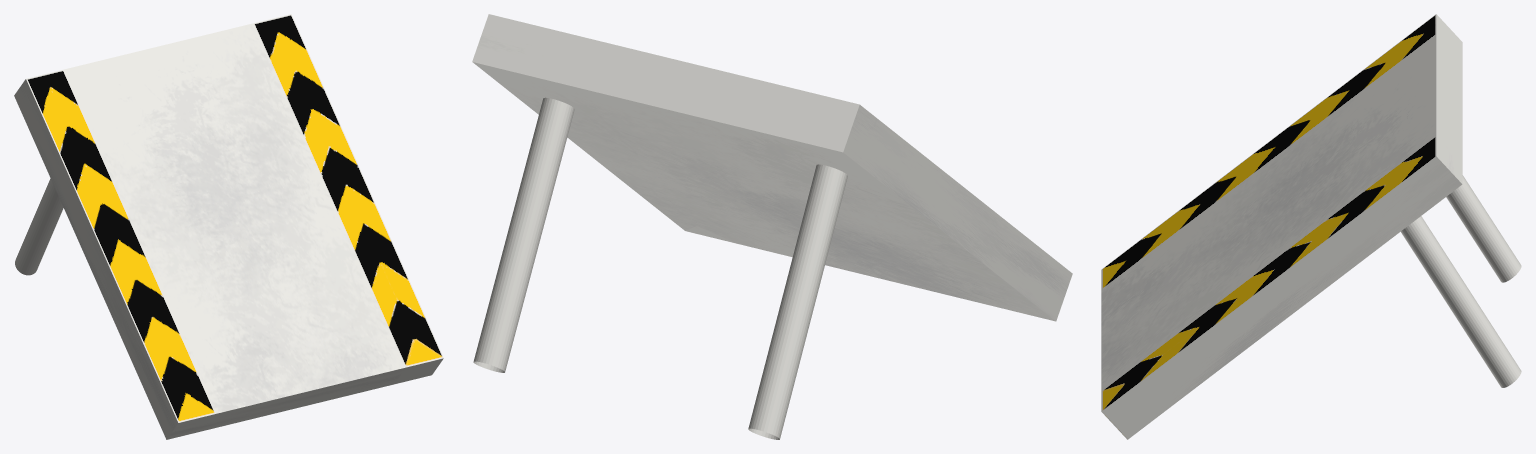
Rendered from JumpDae 1.fbx.
3 views of the same model, side by side, from view 1: azimuth 30°, elevation 25°; view 2: azimuth 150°, elevation 25°; view 3: azimuth 270°, elevation 25° (orthographic). The views are drawn at different scales.
Parts seen in each view (by area): view 1: Circle; view 2: Circle; view 3: Circle.
Part boxes in pixels (box(x1,y1,x2,y2)): Circle: box(14, 14, 443, 439); Circle: box(472, 14, 1072, 439); Circle: box(1101, 14, 1521, 439).
Size of the model in its own units: 252 by 234 by 314.
